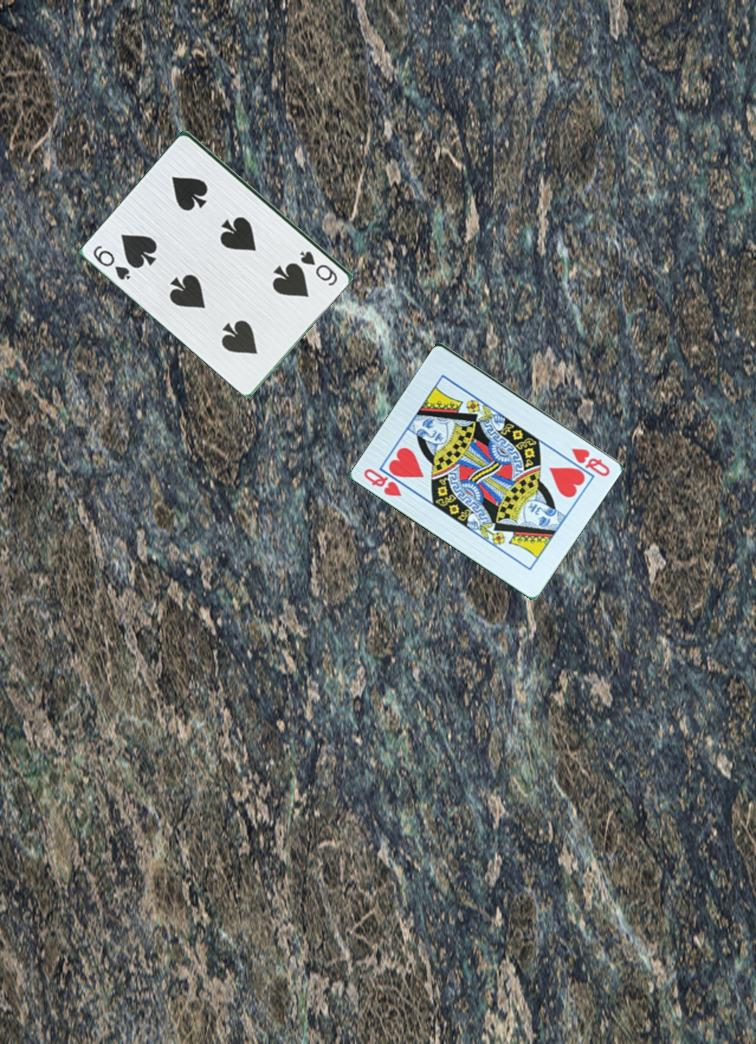6s: (296, 247, 341, 289), (90, 242, 135, 284)
qh: (568, 444, 614, 480), (360, 464, 405, 499)
